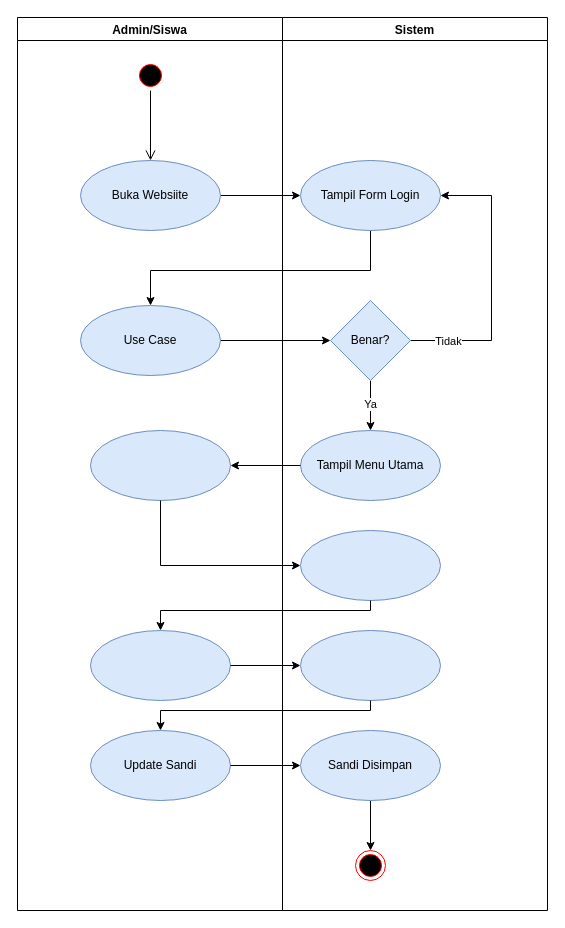
Some shapes in this 565 by 928 pixel diagram are drawn without their labels. The centre of each missing label's shape, as x and y in pixels:
Cari Nama Akun: [160,665]
Info Akun: [160,465]
Menampilkan Menu Info Akun: [370,565]
Tampilkan Akun Siswa: [370,665]
